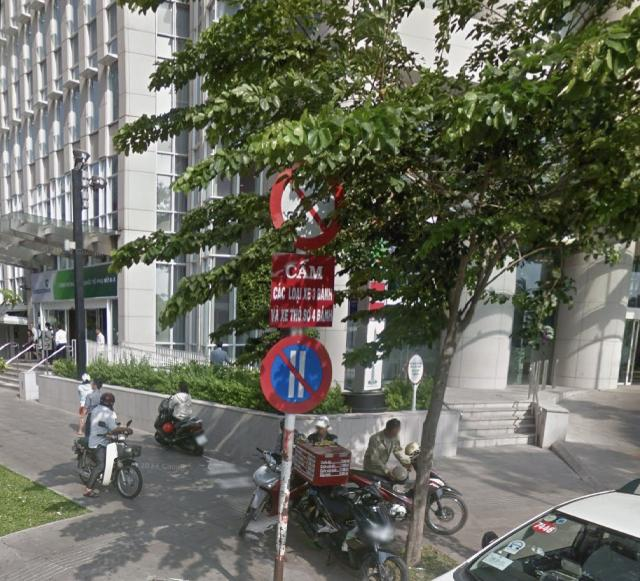131c-cam-do-xe-ngay-chan: (259, 334, 333, 415)
